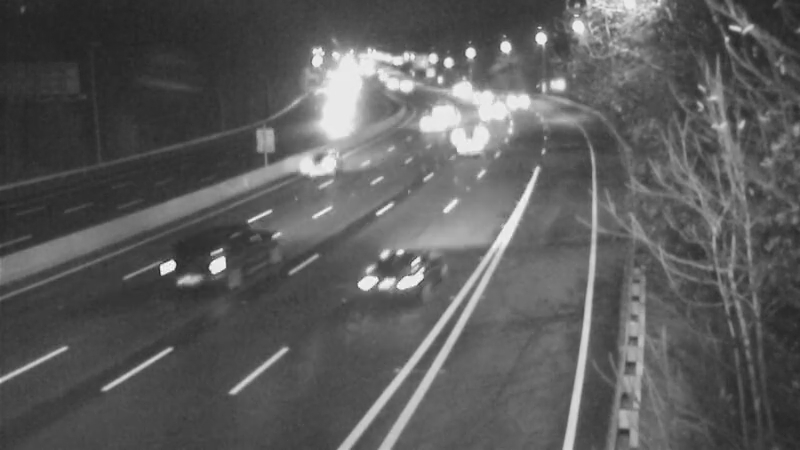vehicle: (279, 117, 359, 197), (355, 228, 435, 308), (163, 214, 243, 294), (434, 63, 484, 113), (482, 75, 532, 125), (451, 68, 501, 118), (417, 86, 467, 136), (465, 86, 515, 136), (406, 101, 456, 151), (442, 121, 492, 171)
